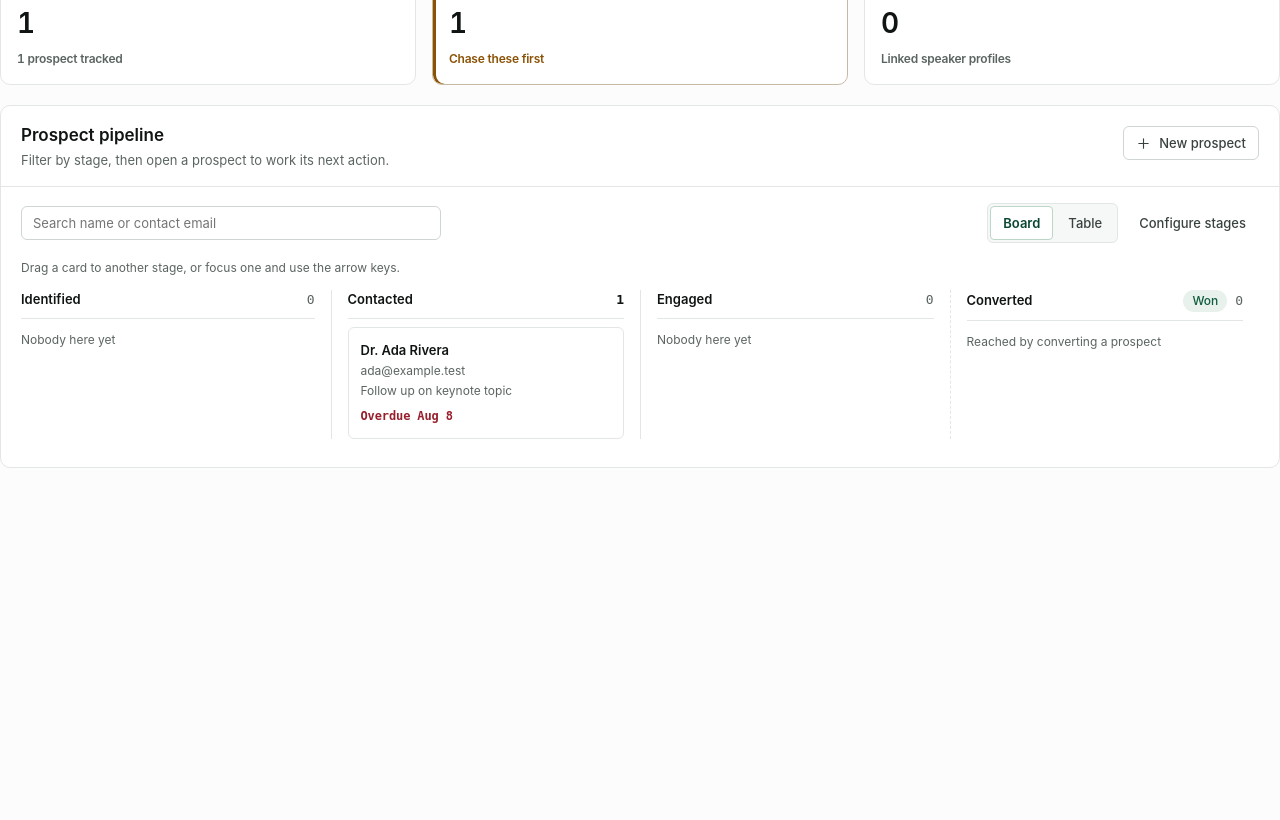
Test: assigning a prospect owner › renders the server's owner refusal on the owner control instead of a bare 500
Click the button "Dr. Ada Rivera".
click(486, 383)  # box [348,327,624,439]
(page scrolled)
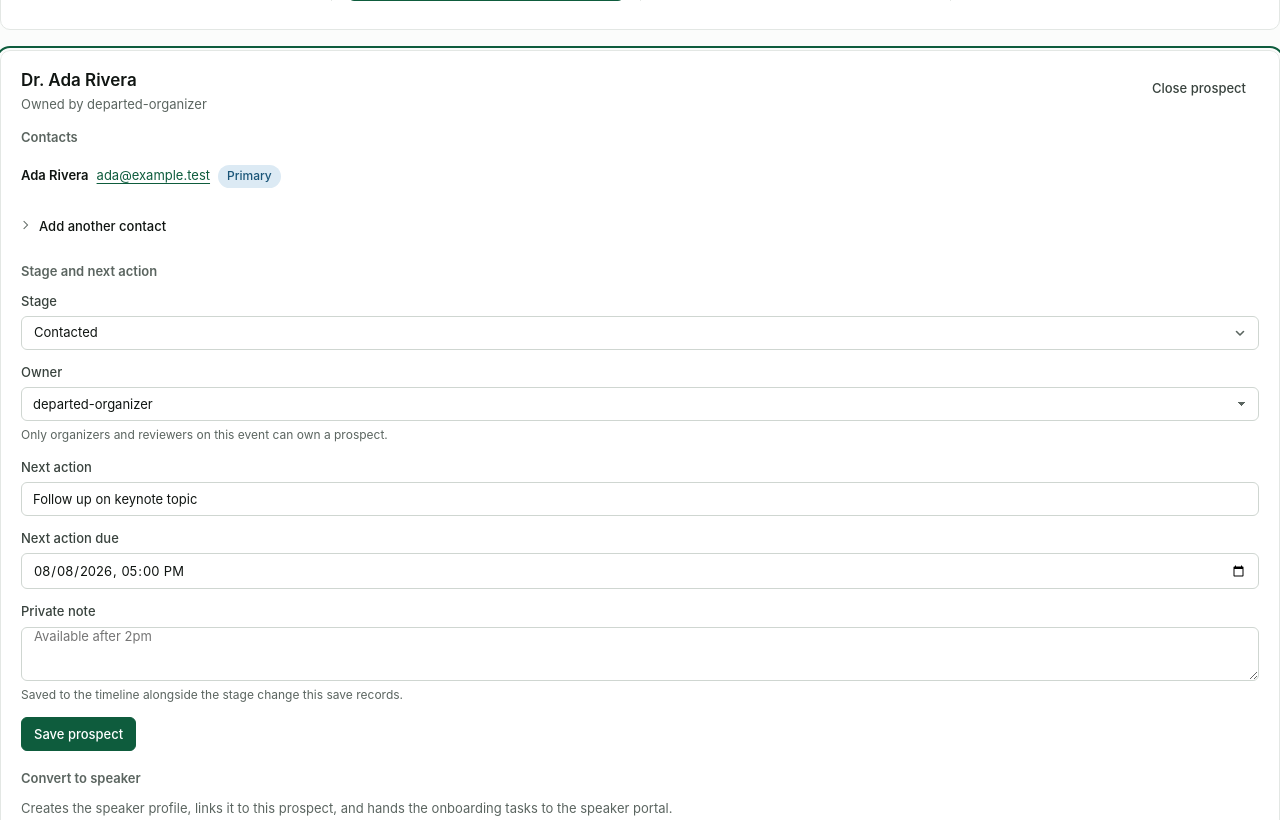
Expected: the dropdown labelled "Owner" shows "departed-organizer"
Select "Ravi Reviewer" in the dropdown labelled "Owner" at (640, 404), box [21,387,1259,421]
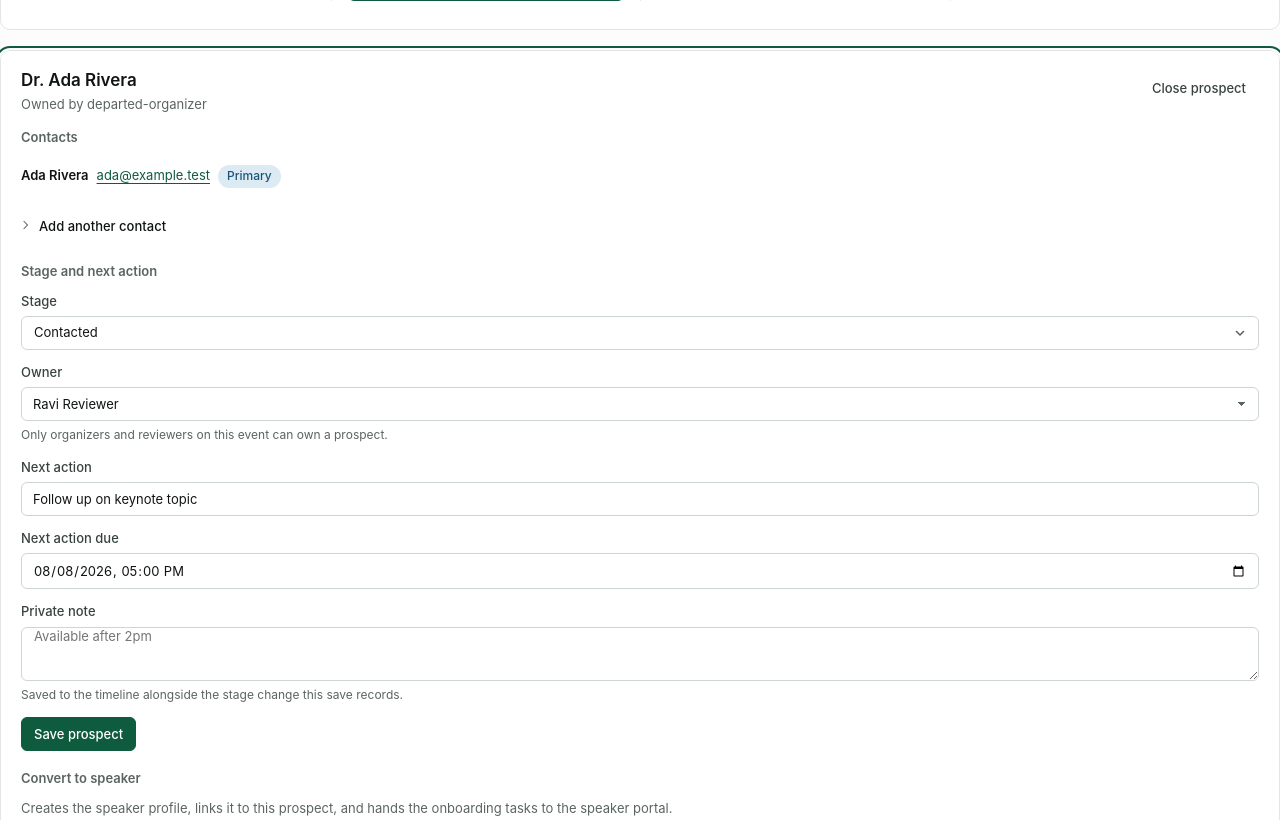
Click the button "Save prospect".
click(79, 734)  # box [21,717,136,751]
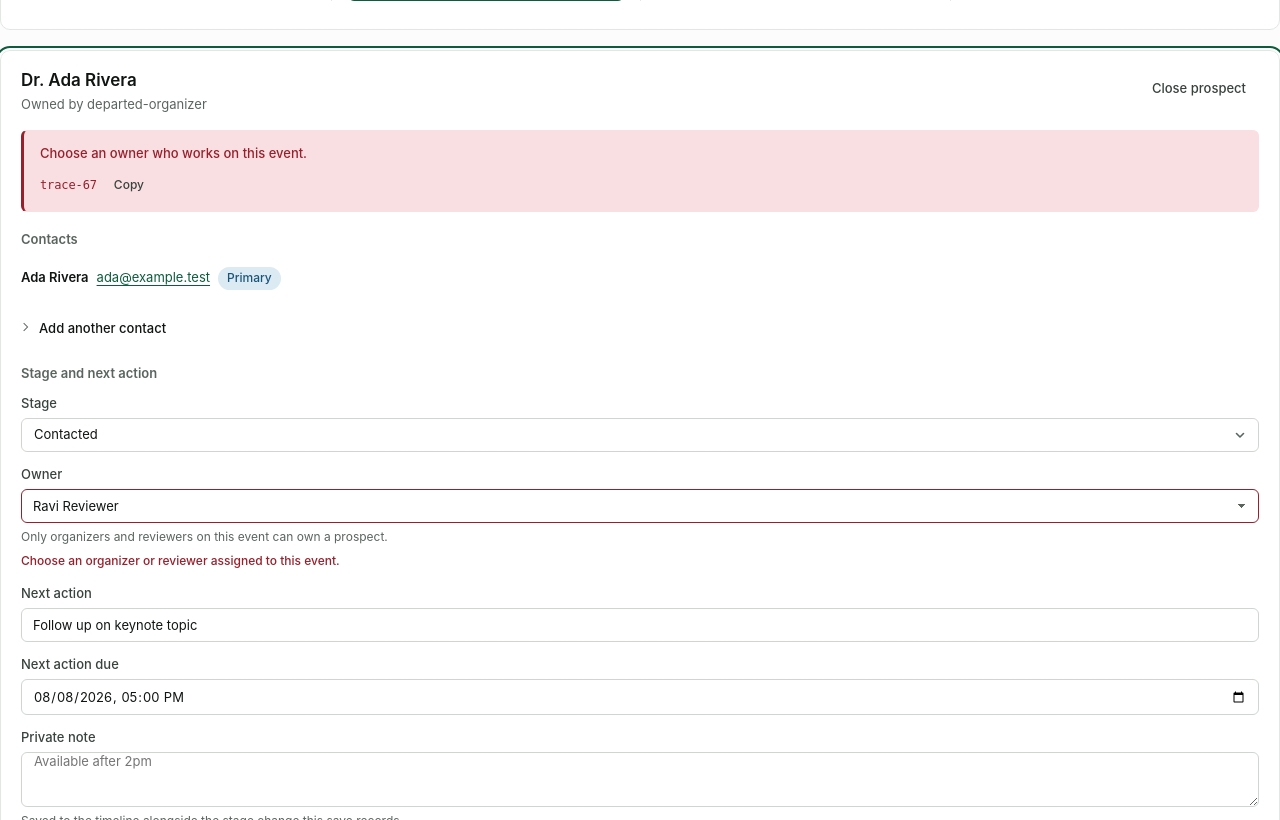
Expected: the text "Choose an organizer or reviewer assigned to this event." is shown, [21,553,340,568]
Expected: the message reads "Choose an owner who works on this event.", [40,145,307,161]
Expected: the text "trace-67" is shown, [40,176,97,195]
Select "Olivia Organizer (you)" in the dropdown labelled "Owner" at (640, 506), box [21,489,1259,523]
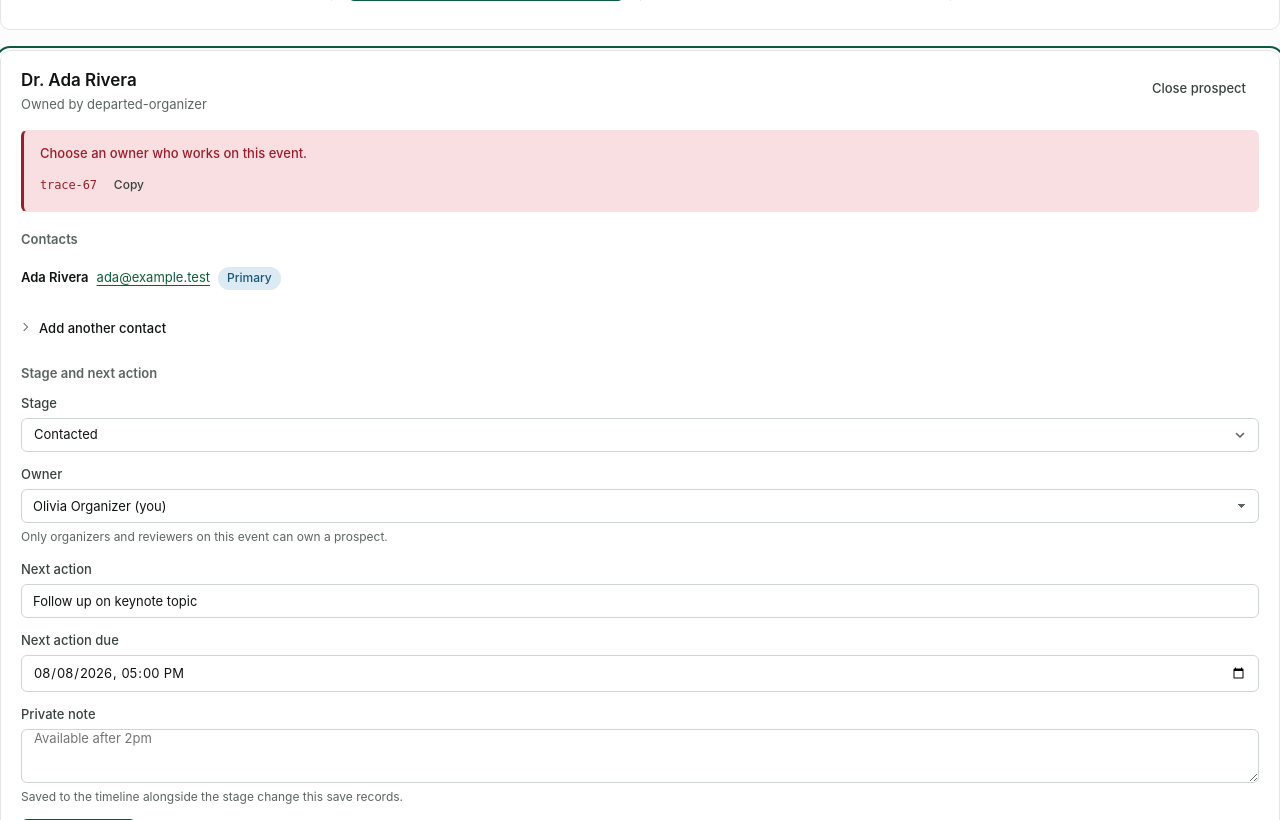
Expected: the text "Choose an organizer or reviewer assigned to this event." is gone
